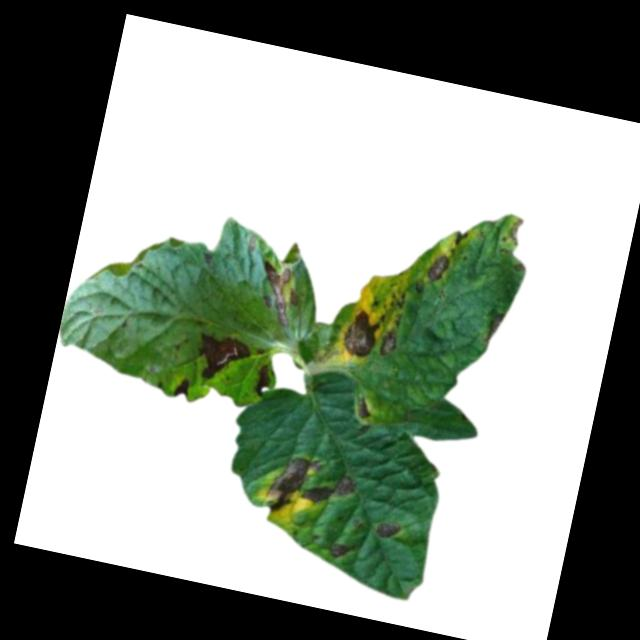Early_blight: (260, 449, 323, 519), (190, 329, 255, 388), (251, 260, 306, 328), (300, 470, 362, 514), (339, 306, 383, 363), (480, 309, 506, 349), (251, 363, 277, 399), (352, 390, 376, 423), (425, 254, 451, 284), (374, 517, 404, 543), (503, 214, 527, 246), (327, 540, 356, 565), (376, 330, 400, 360), (170, 375, 194, 402), (452, 229, 470, 248)
